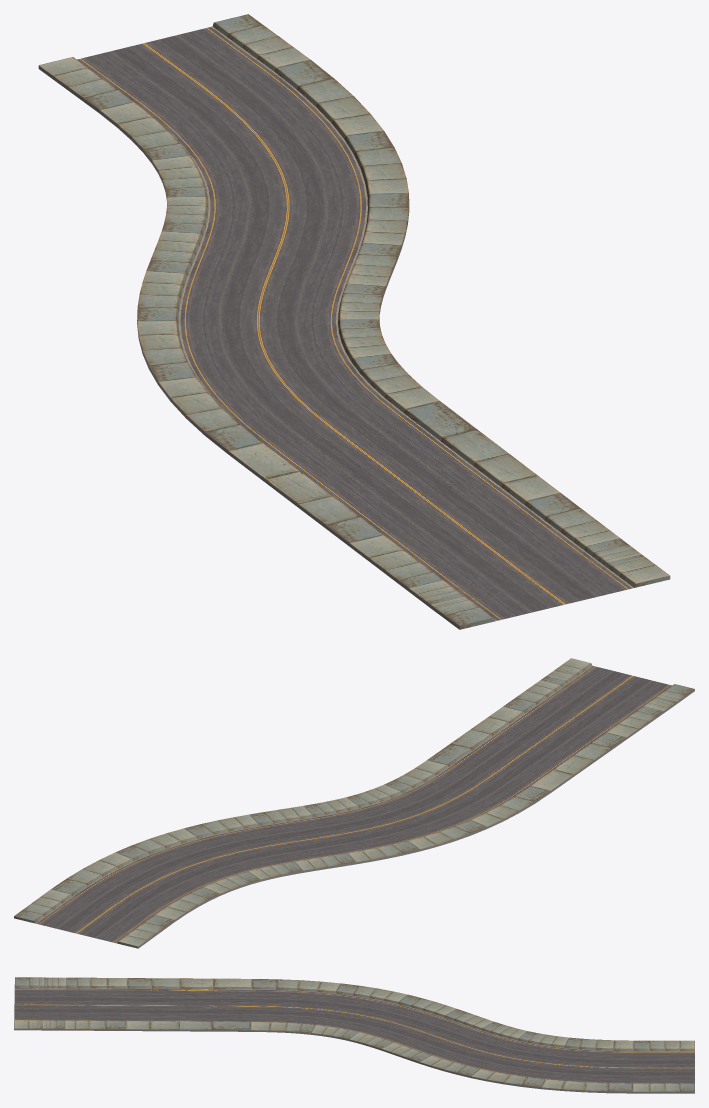
The model's file is longCurve.FBX.
3 views of the same model, one above another, from view 1: azimuth 30°, elevation 25°; view 2: azimuth 150°, elevation 25°; view 3: azimuth 270°, elevation 25° (orthographic). The views are drawn at different scales.
Visible parts, largest first — view 1: Plane014, Plane015, Plane026, Plane020, Plane029, Plane019, Plane025, Plane024, Plane030, Plane009, Plane031, Plane013 (+12 smaller); view 2: Plane014, Plane015, Plane026, Plane020, Plane029, Plane025, Plane019, Plane030, Plane024, Plane009, Plane031, Plane013 (+12 smaller); view 3: Plane015, Plane014, Plane020, Plane026, Plane029, Plane024, Plane025, Plane019, Plane013, Plane031, Plane030, Plane009 (+12 smaller).
Part boxes in pixels (box(x1,y1,x2,y2)): Plane014: box(334, 401, 560, 521); Plane015: box(228, 429, 454, 545); Plane026: box(205, 60, 383, 149); Plane020: box(158, 371, 333, 453); Plane029: box(99, 88, 267, 163); Plane019: box(275, 354, 439, 429); Plane025: box(268, 131, 408, 198); Plane024: box(137, 320, 274, 384); Plane030: box(144, 14, 310, 88); Plane009: box(455, 493, 619, 566); Plane031: box(38, 43, 204, 113); Plane013: box(349, 522, 514, 591); Plane014: box(427, 706, 564, 777); Plane015: box(489, 724, 626, 792); Plane026: box(51, 852, 167, 906); Plane020: box(436, 778, 550, 828); Plane029: box(113, 875, 219, 921); Plane025: box(116, 828, 221, 874); Plane019: box(384, 760, 488, 807); Plane030: box(14, 889, 112, 933); Plane024: box(383, 808, 486, 851); Plane009: box(503, 680, 601, 723); Plane031: box(76, 907, 174, 948); Plane013: box(565, 698, 663, 739); Plane015: box(127, 978, 252, 1006); Plane014: box(126, 1005, 251, 1031); Plane020: box(251, 979, 340, 1009); Plane026: box(541, 1064, 633, 1093); Plane029: box(555, 1037, 633, 1067); Plane024: box(326, 983, 407, 1018); Plane025: box(471, 1055, 554, 1088); Plane019: box(250, 1006, 325, 1034); Plane013: box(65, 977, 127, 1005); Plane031: box(633, 1040, 694, 1067); Plane030: box(632, 1068, 694, 1093); Plane009: box(64, 1005, 126, 1030).
Bounding box in the file's own units: 1358 × 10 × 3416.
